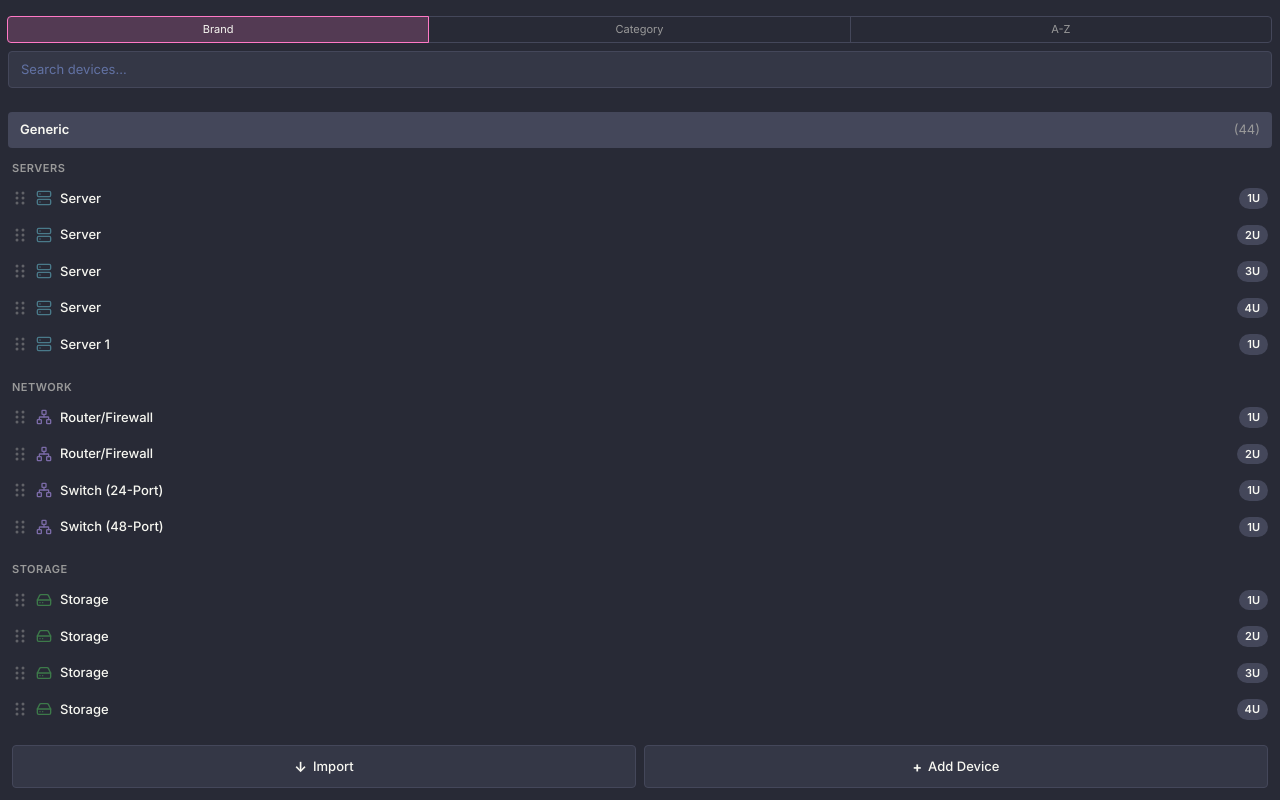
it: DevicePalette Component › Search › shows no results message when search has no matches
Type "xyz" into the search field.
click(640, 69); type("xyz")  # box [8,50,1272,88]
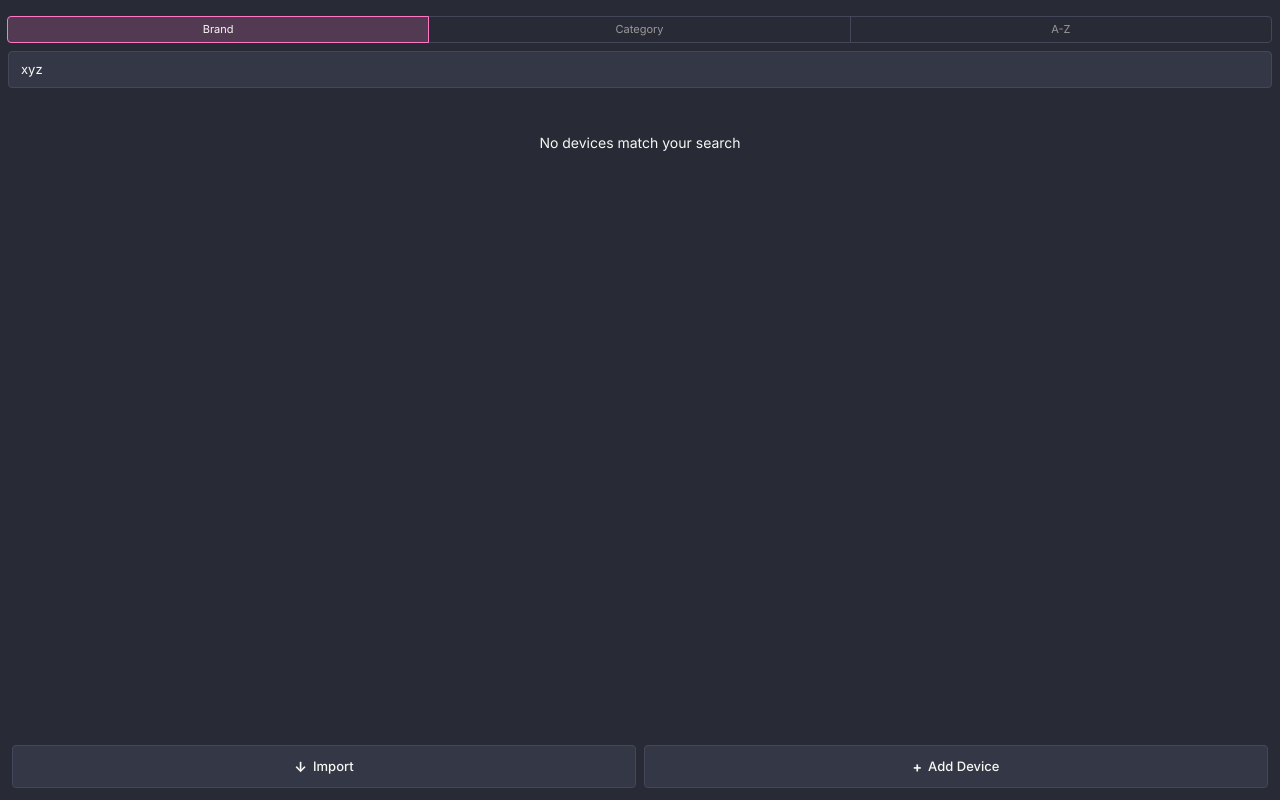
Now the text "No devices match your search" is shown, box [539,132,741,153]
